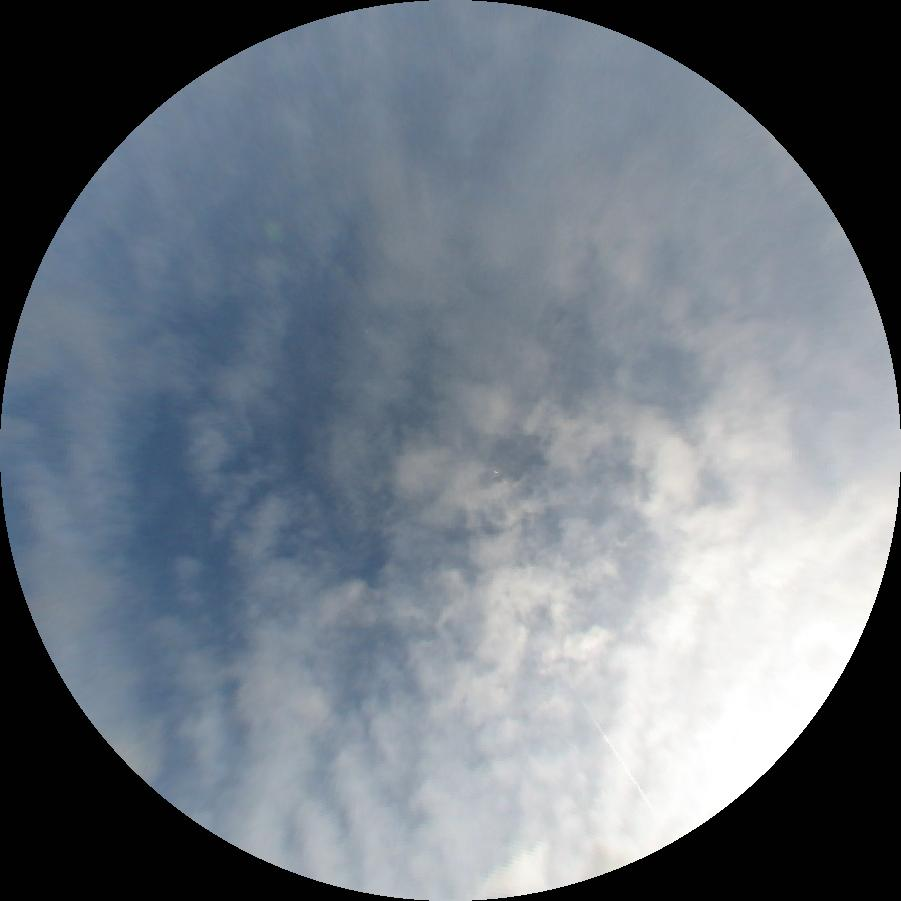contrail young: (570, 685, 663, 825)
sun: (699, 690, 829, 823)
